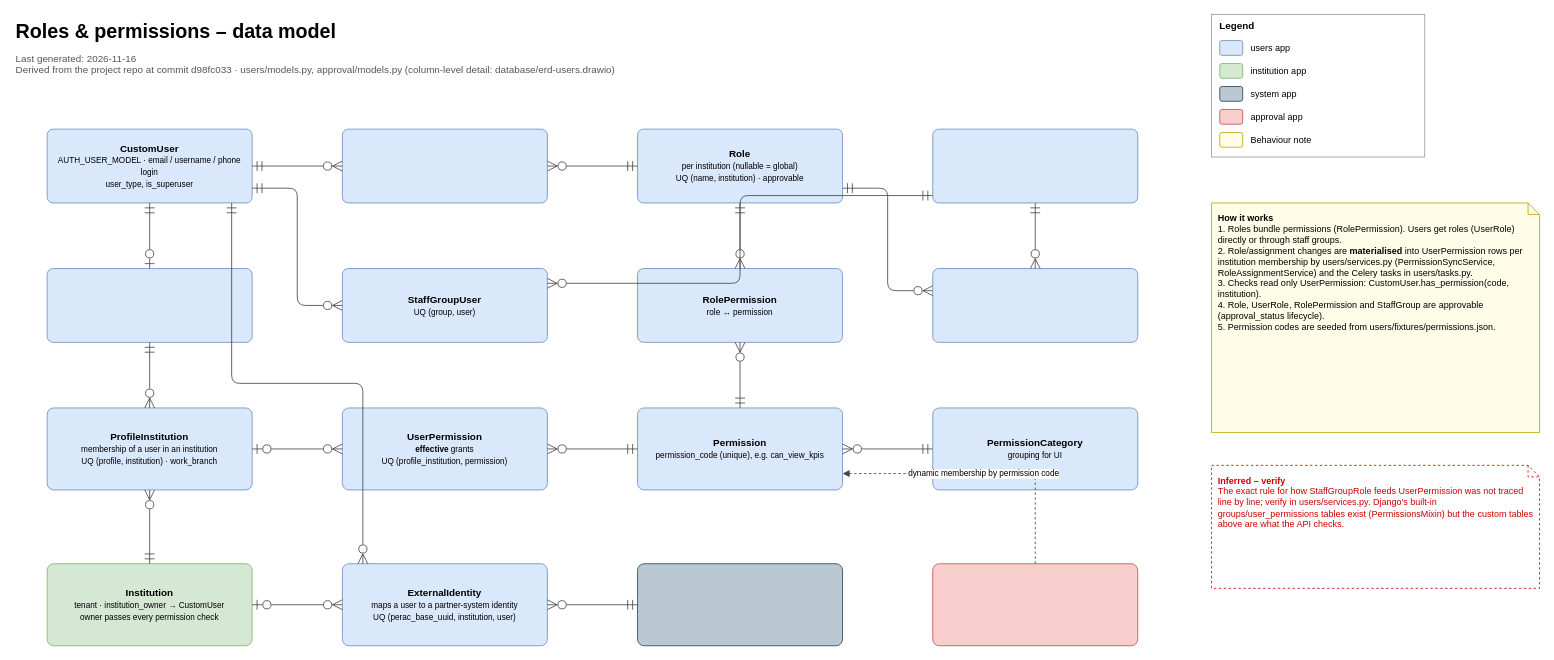
Image size: 1554x660. Some labels were removed from this diagram. Here are the shapes that lost their labels. From the top down, the centre of each, then its label:
At (444,165): "UserRole user ↔ role · approvable".
At (1035,165): "StaffGroup per institution · approvable".
At (149,305): "Profile one per user".
At (1035,305): "StaffGroupRole UQ (group, role)".
At (740,604): "PartnerSystem api_key (inbound) · external_api_key (outbound) · base_url".
At (1035,604): "ApproverGroup may be dynamic: members = users holding a given permission".
